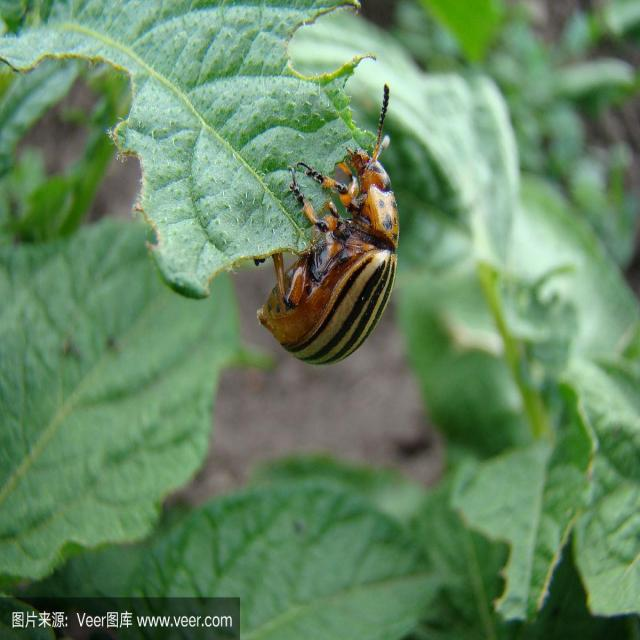ShuCaiHuaBanChong-Grown-: (242, 148, 428, 380)
